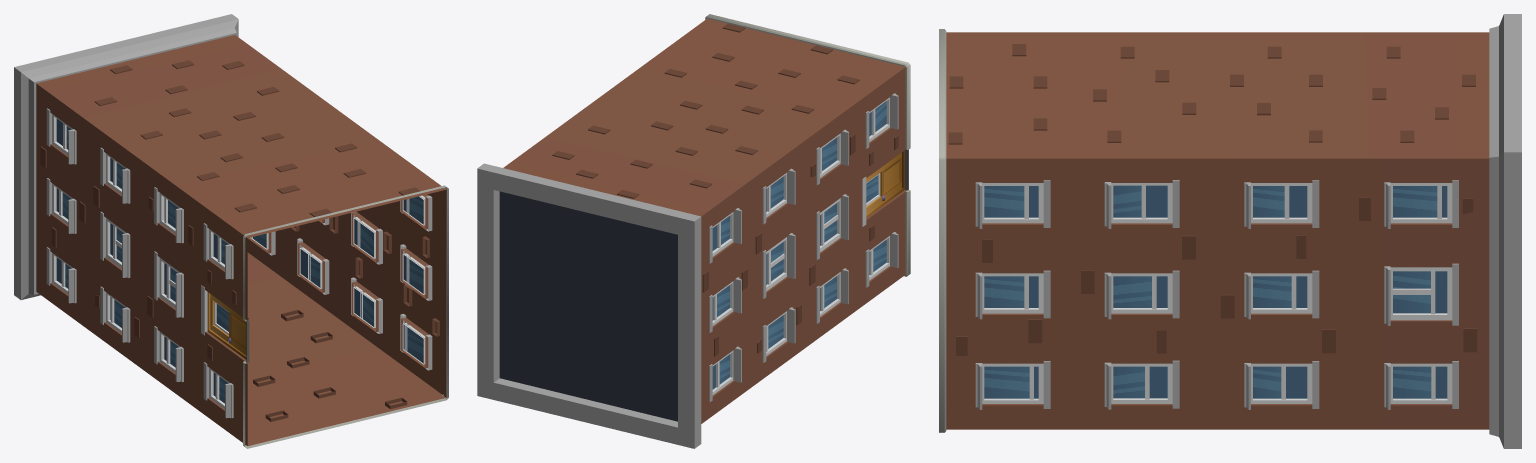
The model's file is Building_2_5_D.glb.
3 renders of one model, left to right at view 1: azimuth 30°, elevation 25°; view 2: azimuth 150°, elevation 25°; view 3: azimuth 270°, elevation 25°, orthographic. The views are drawn at different scales.
Visible parts, largest first — view 1: Building_2_5_D; view 2: Building_2_5_D; view 3: Building_2_5_D.
Boxes of the visible parts, x1,y1,x2,y2 form: Building_2_5_D: [14, 14, 448, 448]; Building_2_5_D: [477, 14, 910, 448]; Building_2_5_D: [939, 14, 1521, 448].
Size of the model in its own units: 6.2 by 6.2 by 11.05.
Materials: 3 (3 with a texture image).
